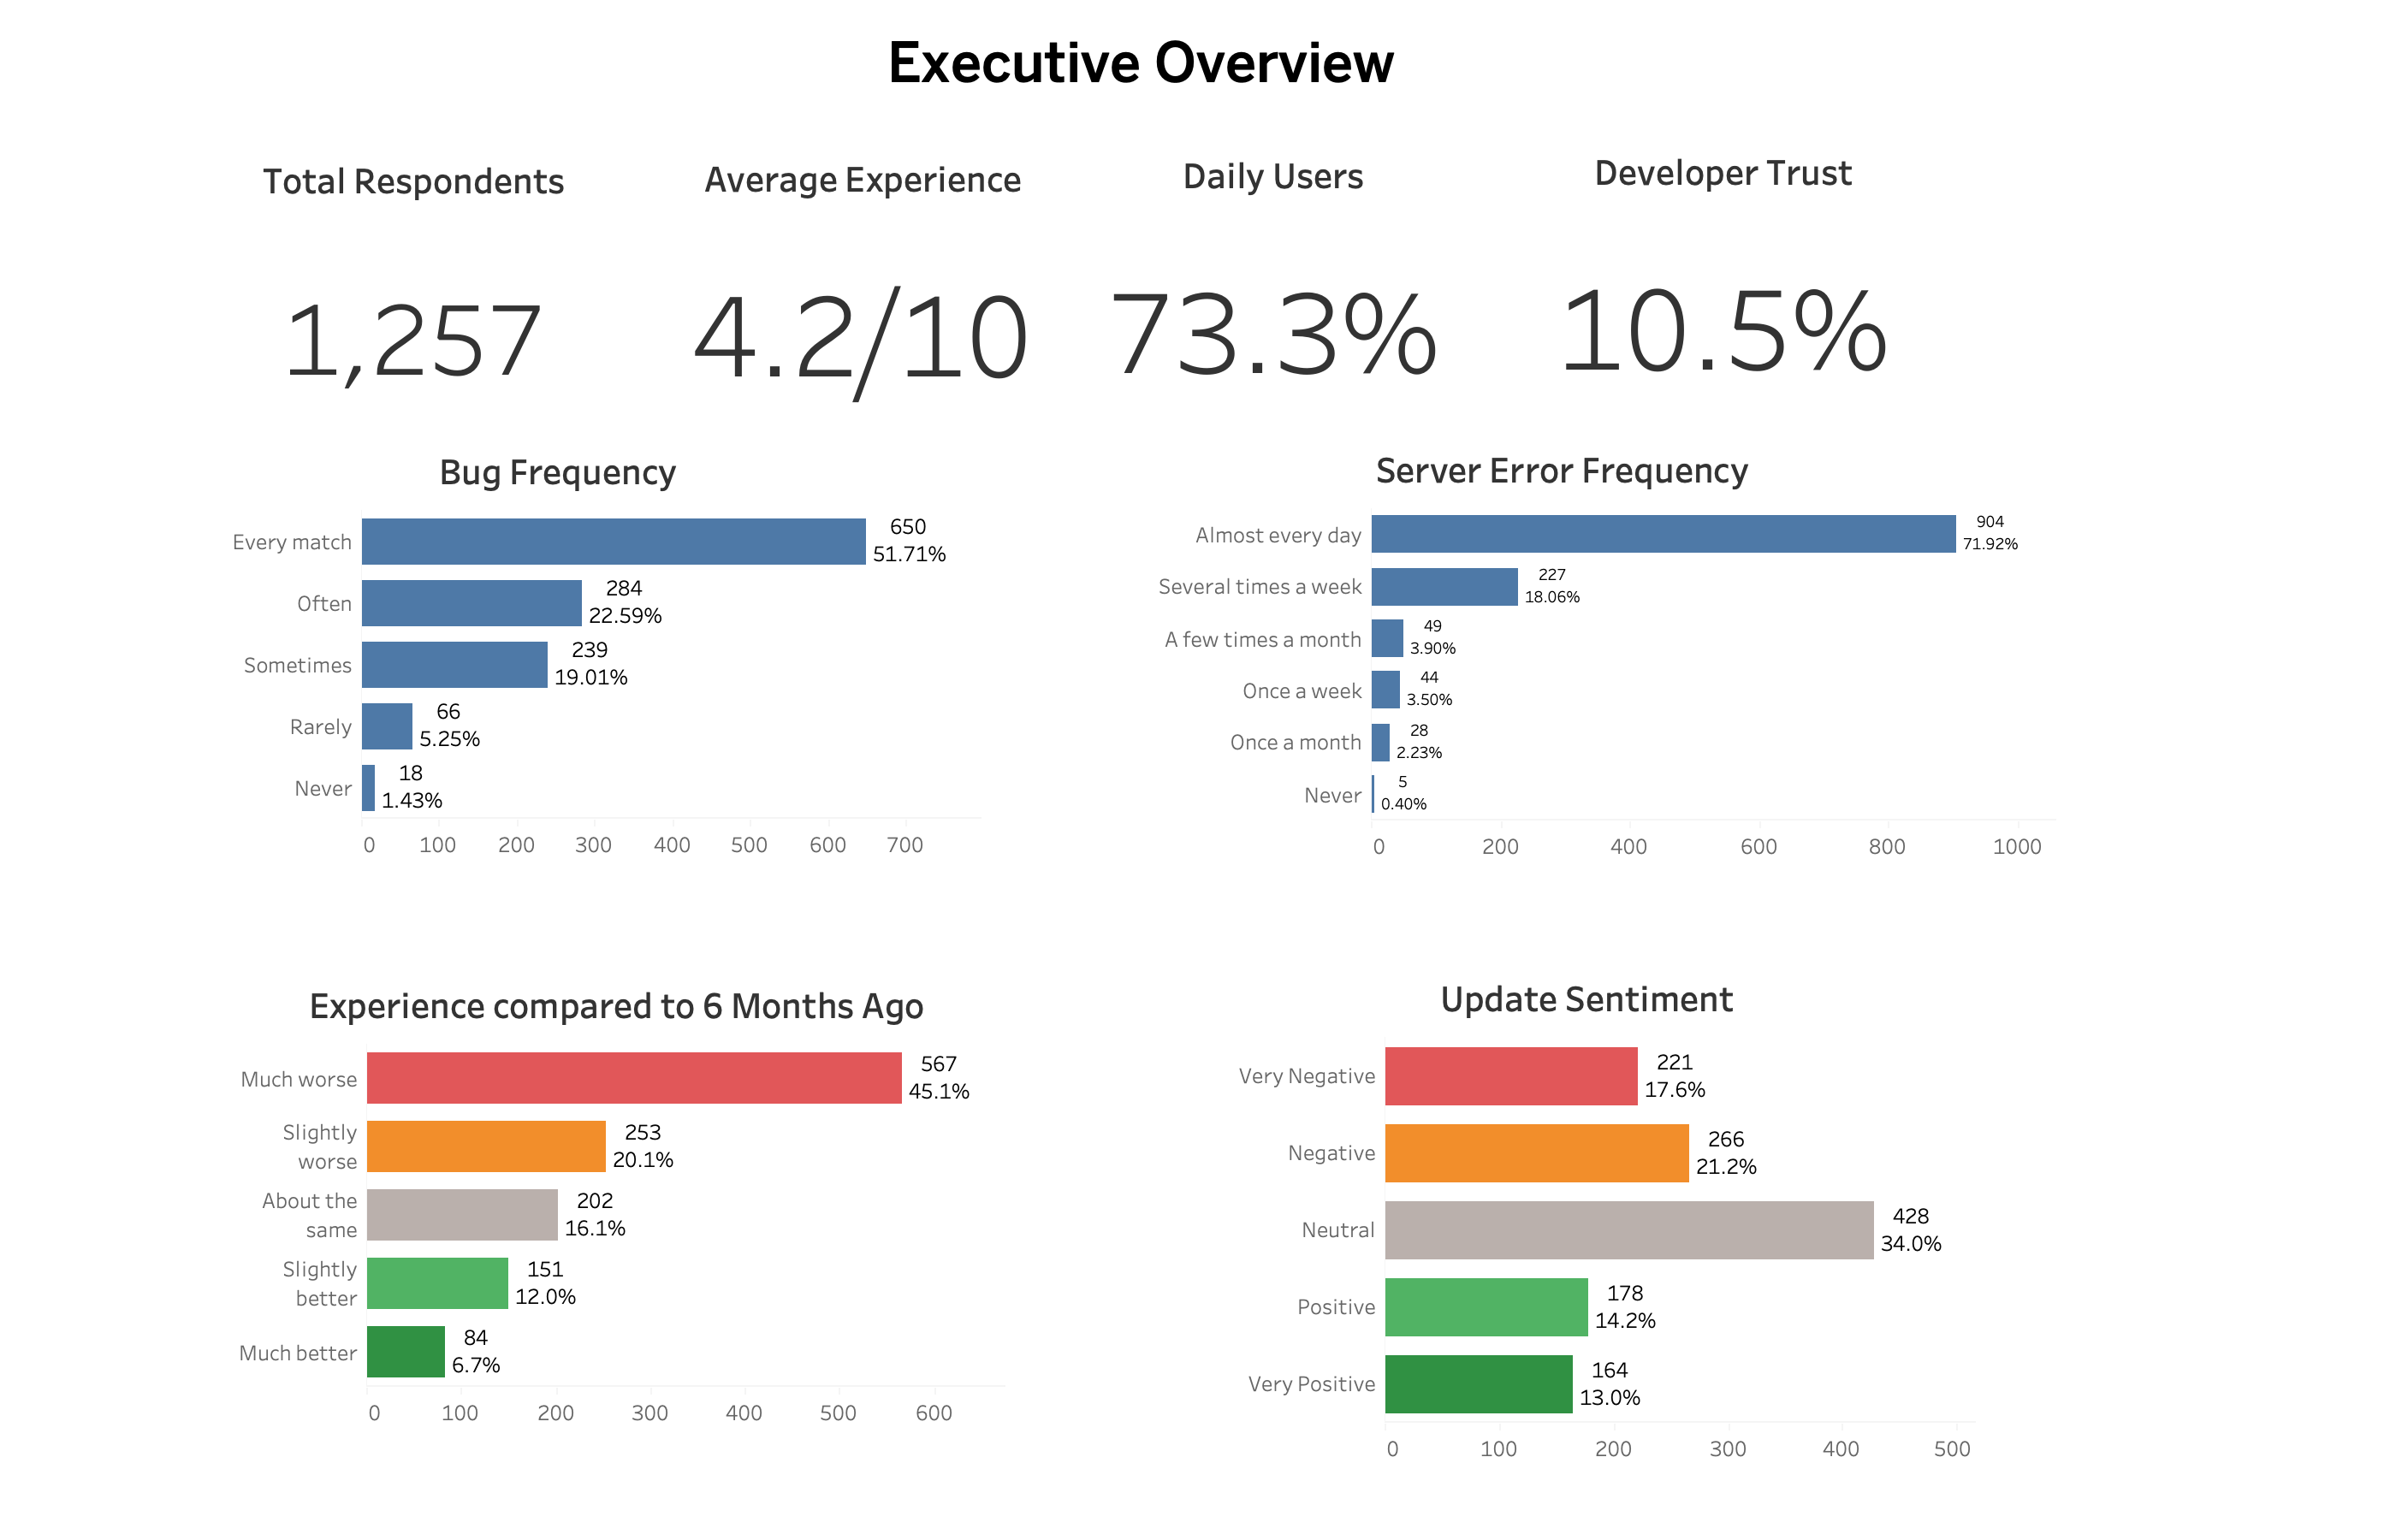

The page's visual inventory and layout, read from the dashboard file:
{"tool":"tableau","page":{"name":"Executive Overview","canvas":[1400,900],"ordinal":1},"visuals":[{"type":"text","box":[271,4,792,67]},{"type":"worksheet","title":"KPI - Developer Trust %","mark":"Automatic","box":[877,80,261,177]},{"type":"worksheet","title":"KPI - Daily Players %","mark":"Automatic","box":[614,82,261,177]},{"type":"worksheet","title":"KPI - Avg Experience","mark":"Automatic","box":[374,84,261,177]},{"type":"worksheet","title":"KPI - Total Respondents","mark":"Automatic","box":[108,85,268,180]},{"type":"worksheet","title":"Reported Server Error Frequency ","mark":"Automatic","rows":["server_error_frequency"],"cols":["server_error_frequency"],"box":[625,254,576,280]},{"type":"worksheet","title":"Bug Frequency","mark":"Automatic","rows":["bug_frequency"],"cols":["bug_frequency"],"box":[79,255,494,285]},{"type":"worksheet","title":"Update Sentiment","mark":"Automatic","rows":["update_sentiment"],"cols":["survey_cleaned_623C9F8EB4D145EEA04E6DE69FEC866A"],"box":[701,563,453,298]},{"type":"worksheet","title":"Experience vs Previous 6 Months","mark":"Automatic","rows":["experience_vs_6_months"],"cols":["experience_vs_6_months"],"box":[134,567,453,323]}]}

Visuals, with their boxes in screenshot pixels (x1, y1, x2, y2), scaled from the page's 1400x900 canvas onto the 2396x1540 screenshot:
text: <bbox>464, 7, 1819, 121</bbox>
"KPI - Developer Trust %" worksheet: <bbox>1501, 137, 1948, 440</bbox>
"KPI - Daily Players %" worksheet: <bbox>1051, 140, 1497, 443</bbox>
"KPI - Avg Experience" worksheet: <bbox>640, 144, 1087, 447</bbox>
"KPI - Total Respondents" worksheet: <bbox>185, 145, 643, 453</bbox>
"Reported Server Error Frequency " worksheet: <bbox>1070, 435, 2055, 914</bbox>
"Bug Frequency" worksheet: <bbox>135, 436, 981, 924</bbox>
"Update Sentiment" worksheet: <bbox>1200, 963, 1975, 1473</bbox>
"Experience vs Previous 6 Months" worksheet: <bbox>229, 970, 1005, 1523</bbox>
